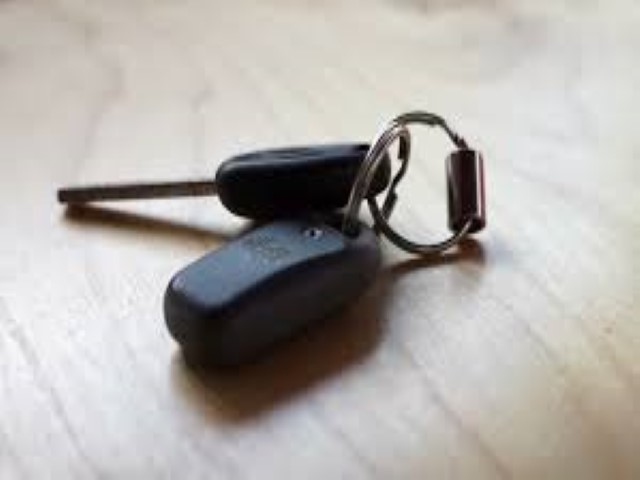key: (54, 141, 388, 388)
